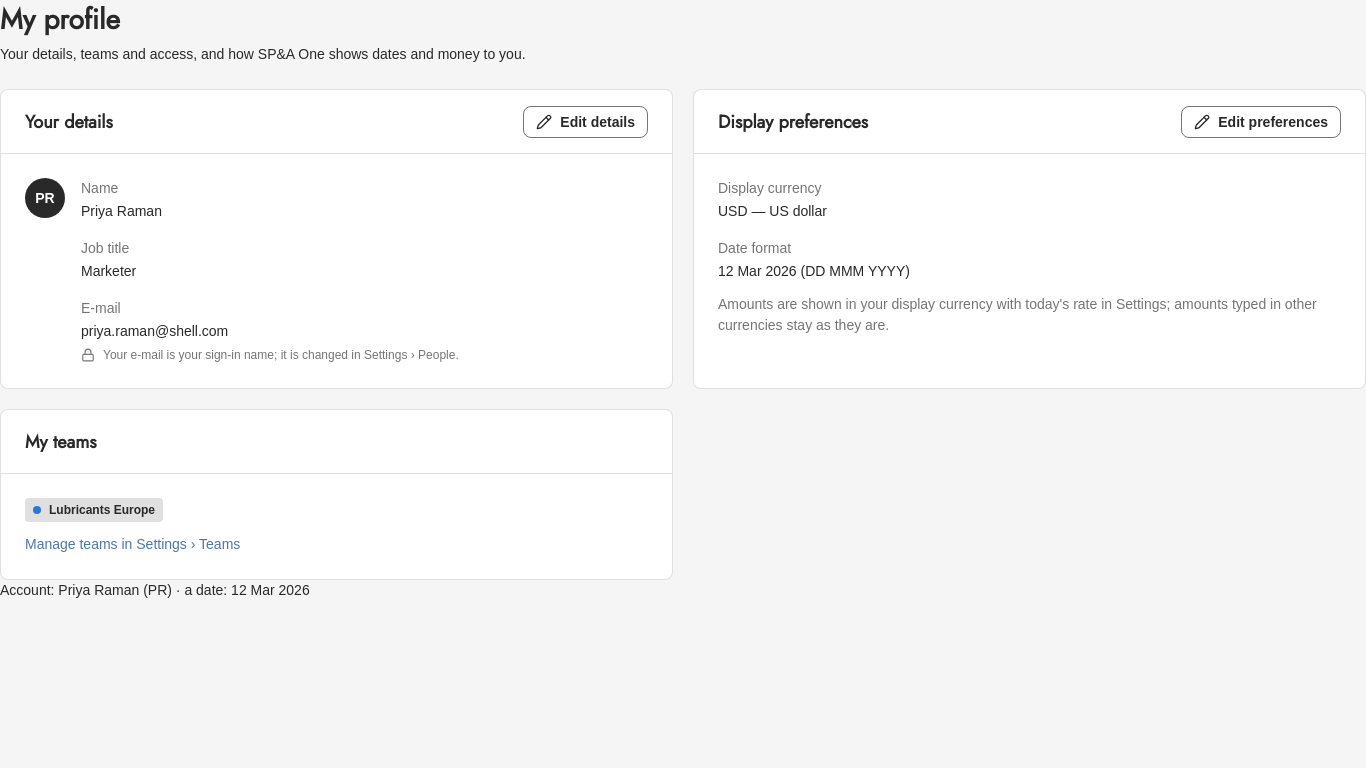
Test case: ProfilePage (feature 003, US4): Edit your details › saves a new name and job title; the account shows them at once (US4-2, FR-022)
Click the button "Edit details": x=586, y=122 523,106 -> 648,138
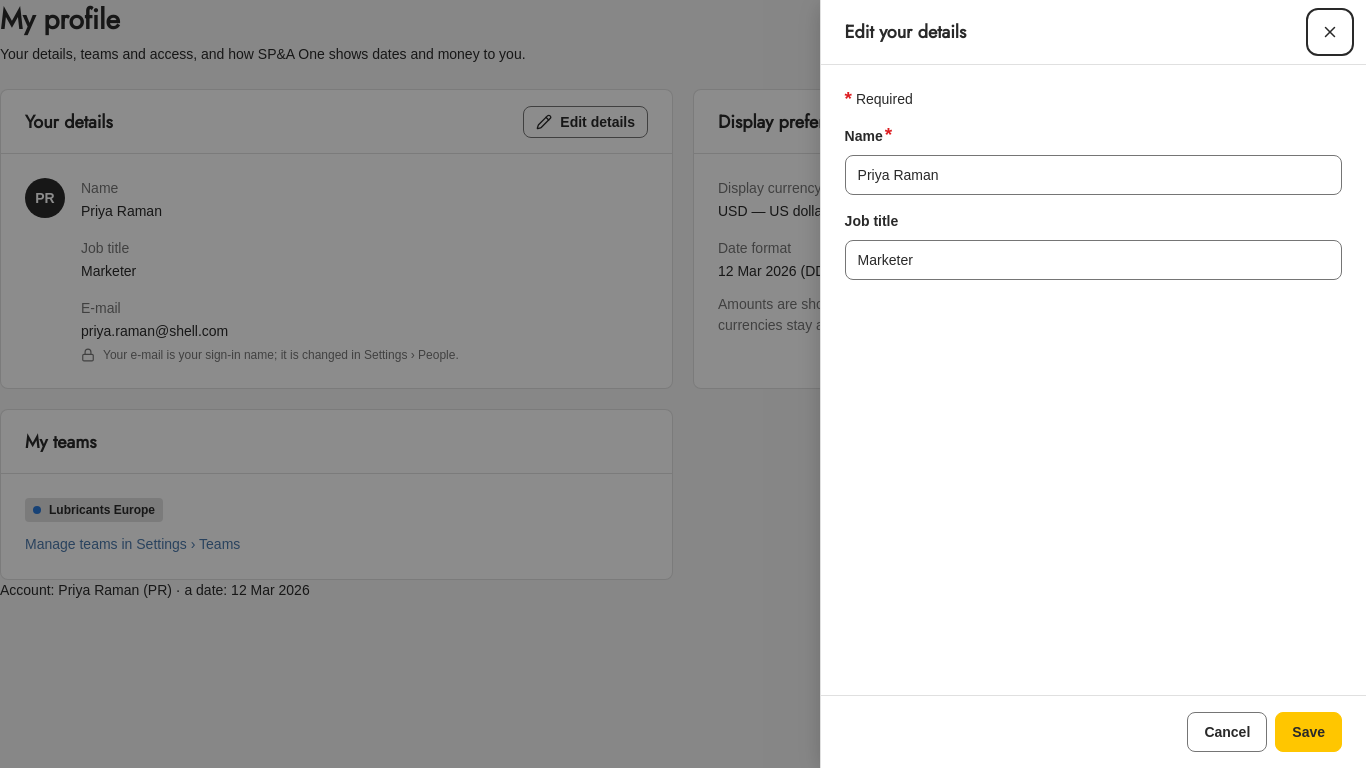
Expected: the field labelled "Name" holds "Priya Raman"
Replace the text in the field labelled "Name" with "Priya Iyer": x=1093, y=175 845,155 -> 1342,195
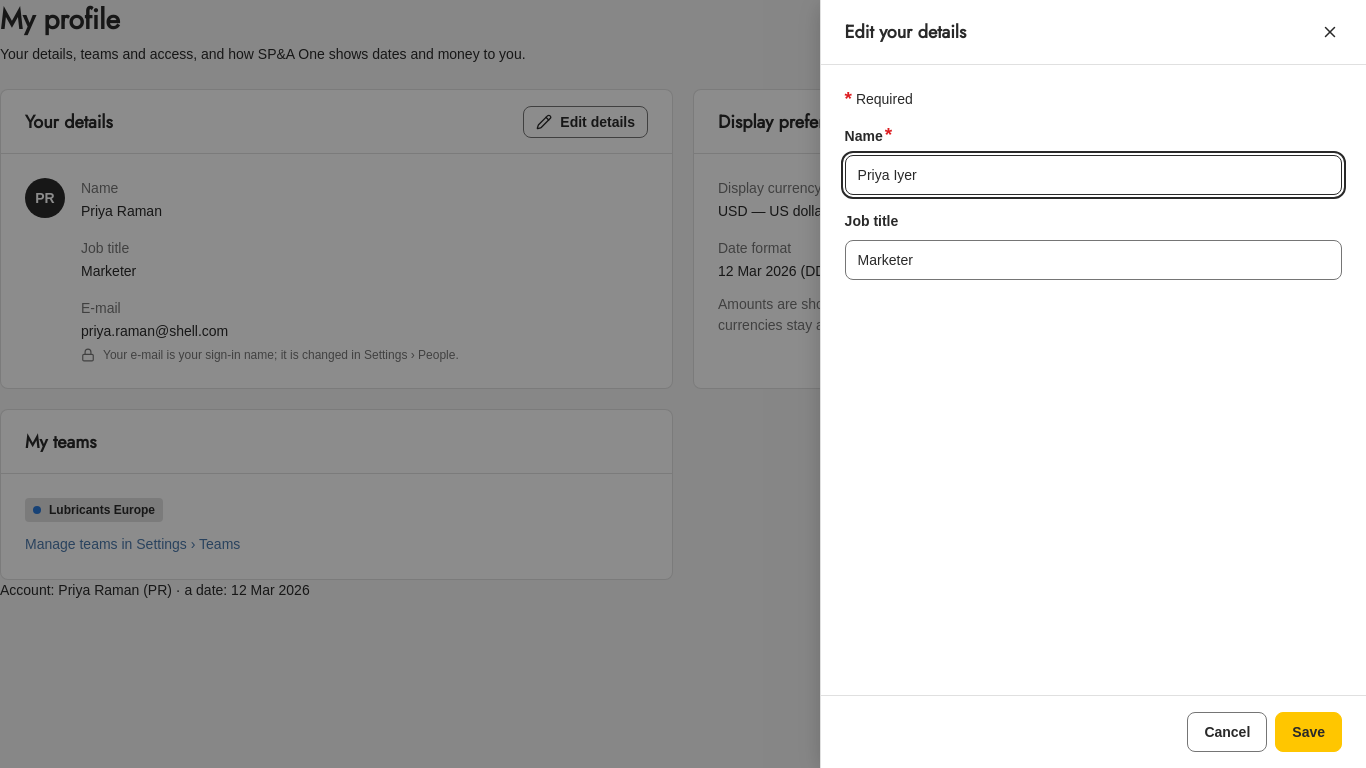
Replace the text in the field labelled "Job title" with "Senior marketer": x=1093, y=260 845,240 -> 1342,280
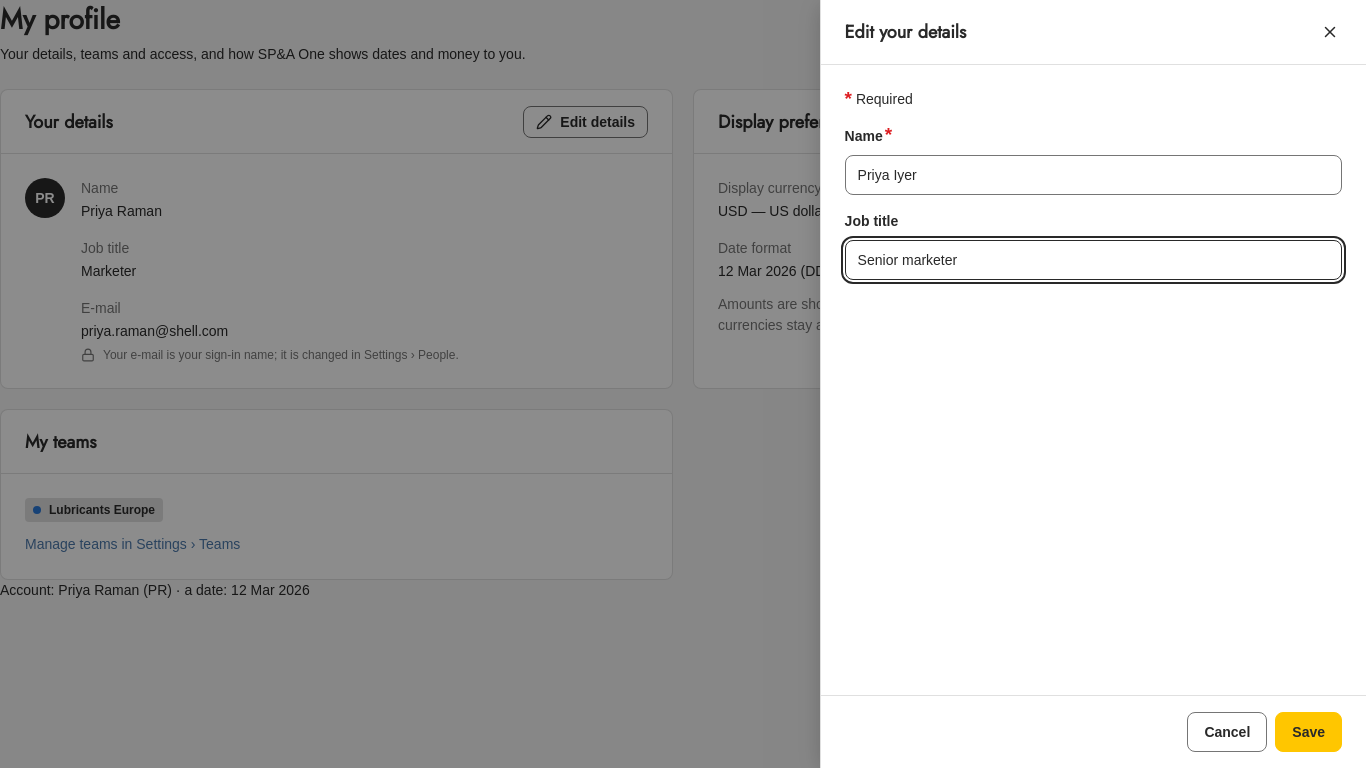
Click the button "Save": x=1309, y=732 1275,712 -> 1342,752
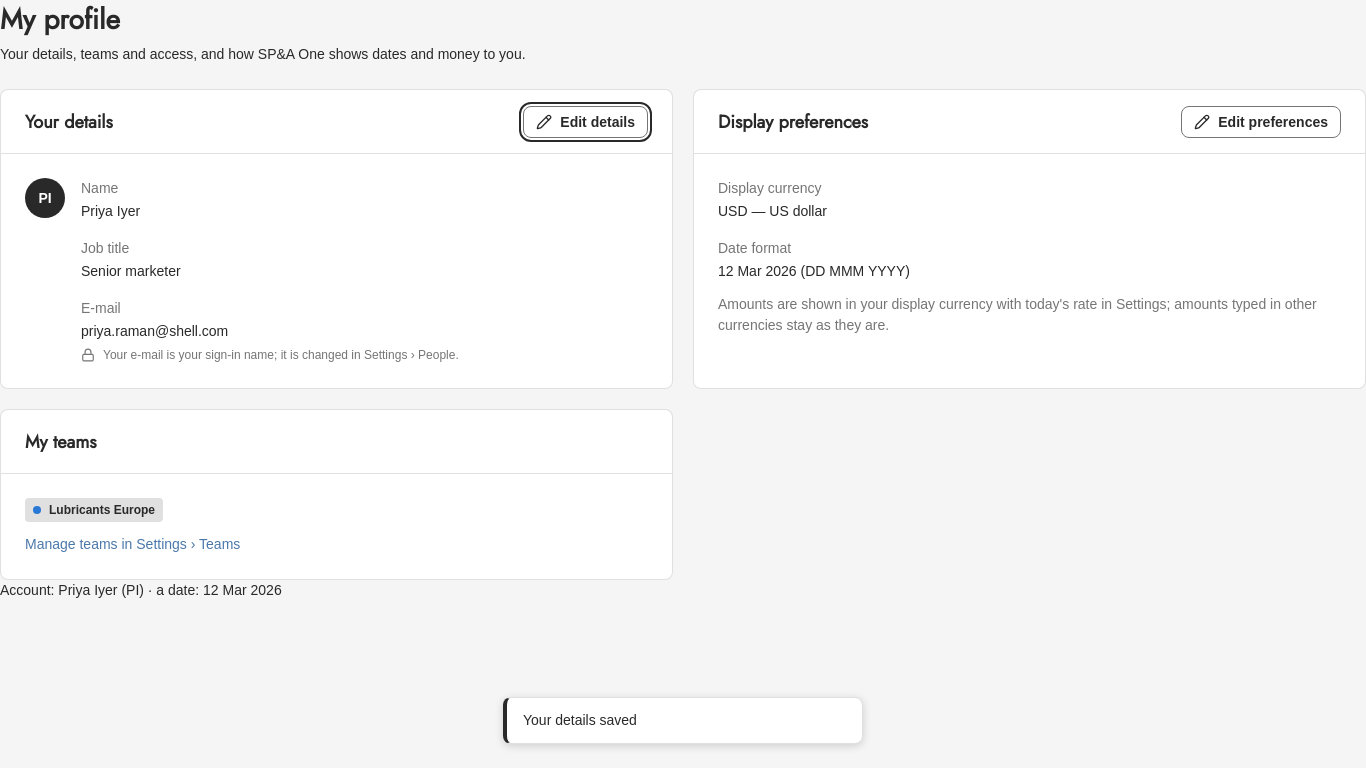
Expected: the text "Your details saved" is shown, 523,712 -> 637,728
Expected: the heading "Edit your details" is gone
Expected: the text "Account: Priya Iyer (PI) · a date: 12 Mar 2026" is shown, 0,582 -> 282,598
